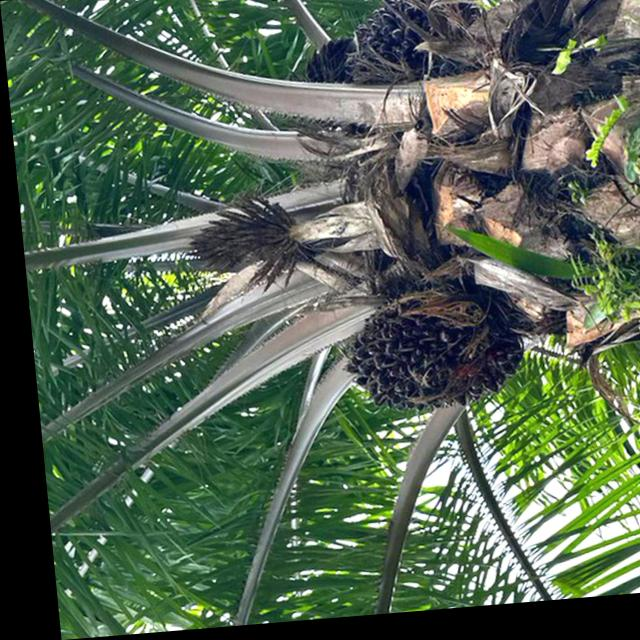almost: (320, 273, 529, 429)
